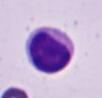L: (25, 26, 75, 73)
